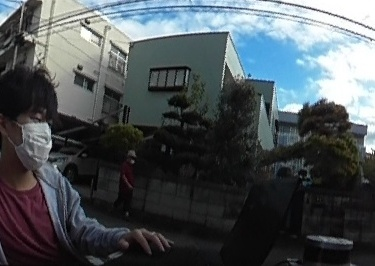person: (116, 148, 138, 215)
